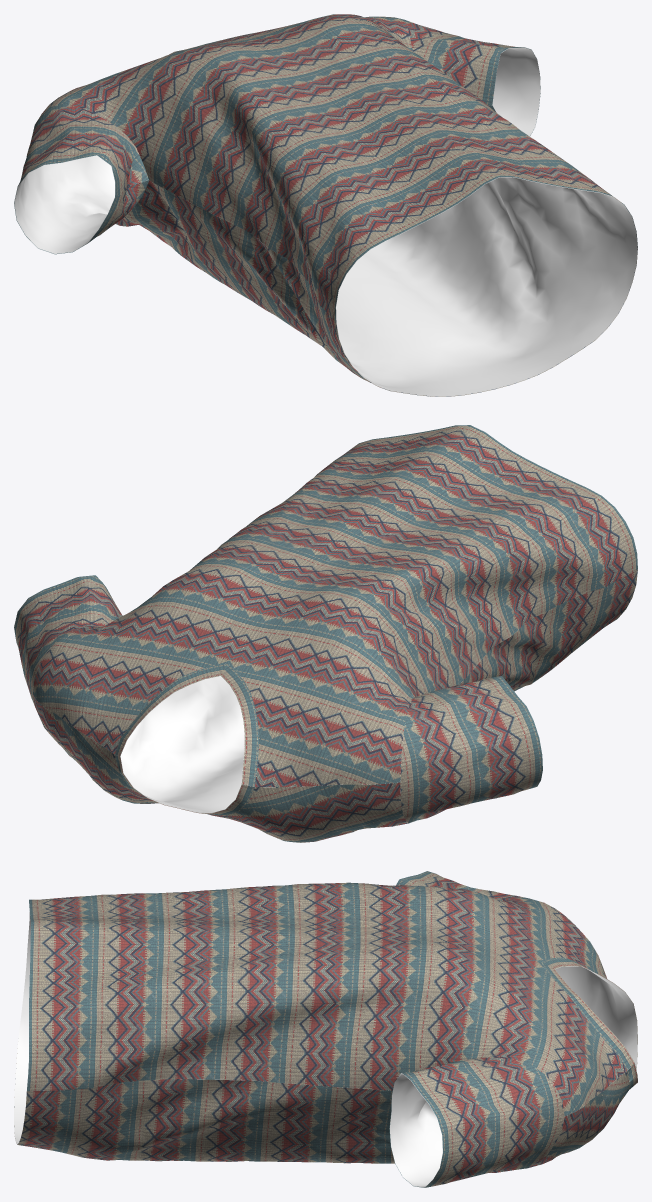
Rendered from male_avg.glb.
The picture shows the model from 3 angles, top to bottom: view 1: azimuth 30°, elevation 25°; view 2: azimuth 150°, elevation 25°; view 3: azimuth 270°, elevation 25°; orthographic projection.
Parts seen in each view (by area): view 1: male_avg; view 2: male_avg; view 3: male_avg.
Boxes of the visible parts, x1,y1,x2,y2 form: male_avg: (14, 14, 637, 396); male_avg: (14, 425, 637, 842); male_avg: (14, 871, 637, 1187).
Size of the model in its own units: 0.6741 by 0.264 by 0.6976.
Materials: 2 (1 with a texture image).
